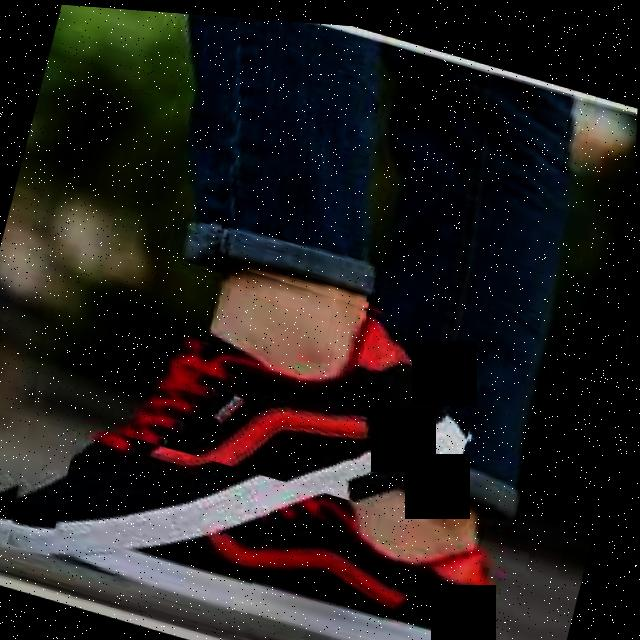shoe: (0, 207, 497, 640), (45, 419, 536, 640)
